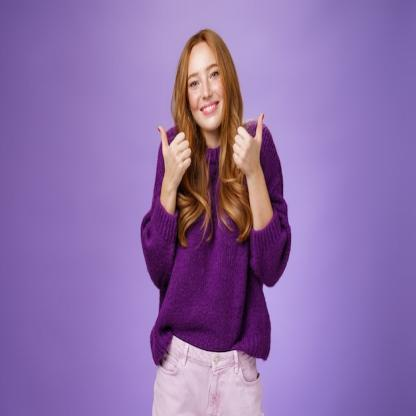thumb_up: (152, 121, 193, 180), (232, 107, 266, 176)
